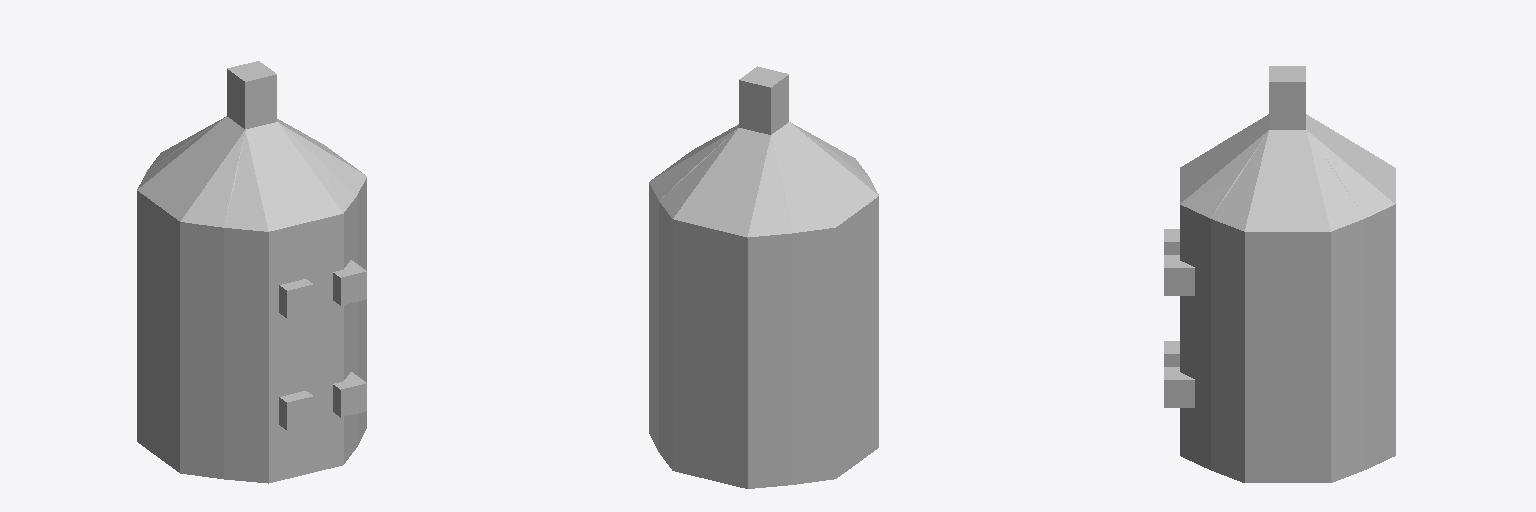
The model's file is ryzerbarrel-steel.obj.
3 renders of one model, left to right at view 1: azimuth 30°, elevation 25°; view 2: azimuth 150°, elevation 25°; view 3: azimuth 270°, elevation 25°, orthographic.
Parts seen in each view (by area): view 1: ryzerbarrel-steel; view 2: ryzerbarrel-steel; view 3: ryzerbarrel-steel.
Part boxes in pixels (x1,y1,x2,y2): ryzerbarrel-steel: (137,61,366,483); ryzerbarrel-steel: (649,66,878,488); ryzerbarrel-steel: (1164,66,1395,482).
Bounding box in the file's own units: 0.4375 × 0.8125 × 0.4688.